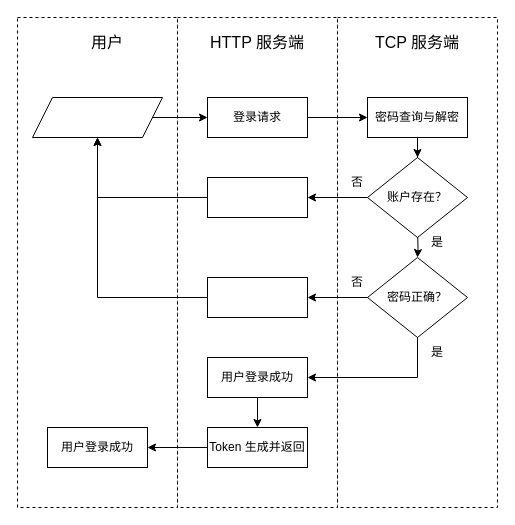
Image size: 515x525. Some labels were removed from this diagram. The box of each missing label's shape, as (x1, y1, x2, y2) in pixels:
输入用户名、密码: (32, 96, 162, 138)
返回密码错误信息: (206, 276, 308, 318)
返回账户错误信息: (206, 176, 308, 218)
